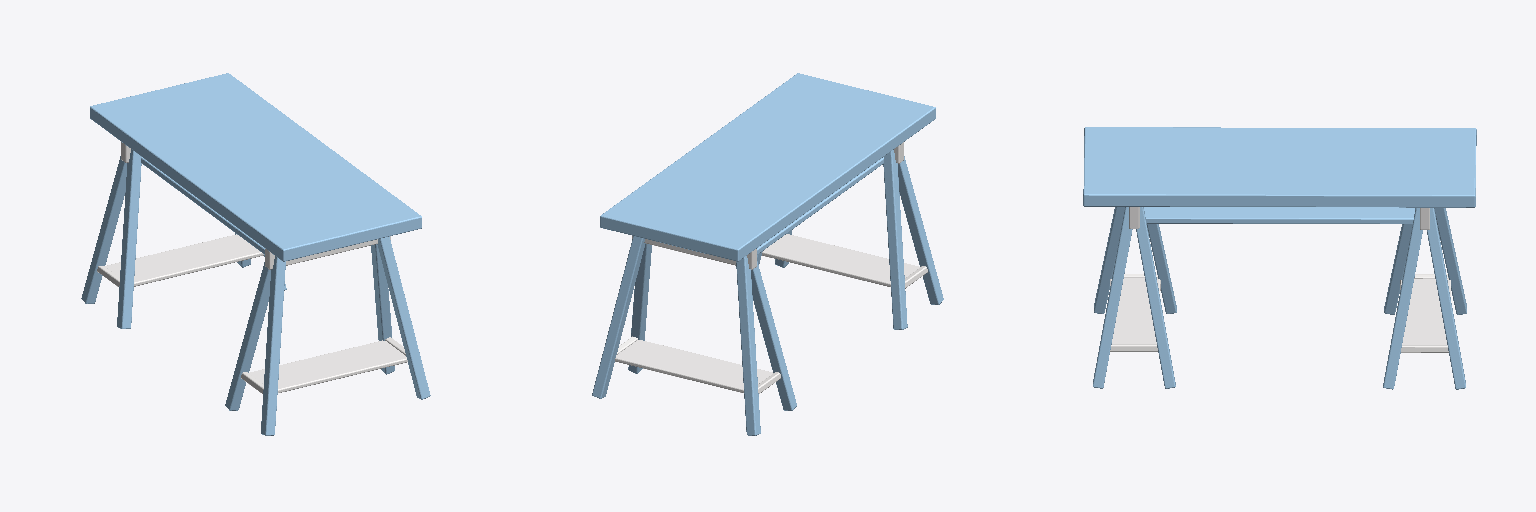
3 views of the same model, side by side, from view 1: azimuth 30°, elevation 25°; view 2: azimuth 150°, elevation 25°; view 3: azimuth 270°, elevation 25° (orthographic).
Parts seen in each view (by area): view 1: 立方体, 立方体.1_4, 立方体.1_2, 立方体.1, 立方体.1_1, 立方体.1_3; view 2: 立方体, 立方体.1_4, 立方体.1_2, 立方体.1, 立方体.1_1, 立方体.1_3; view 3: 立方体, 立方体.1_4, 立方体.1, 立方体.1_2, 立方体.1_3.
Boxes of the visible parts, box(x1,y1,x2,y2) form: 立方体: box(90, 73, 421, 261); 立方体.1_4: box(81, 149, 430, 435); 立方体.1_2: box(105, 234, 407, 392); 立方体.1: box(141, 157, 264, 254); 立方体.1_1: box(121, 142, 390, 269); 立方体.1_3: box(97, 266, 405, 393); 立方体: box(600, 73, 935, 261); 立方体.1_4: box(592, 150, 943, 435); 立方体.1_2: box(615, 234, 919, 392); 立方体.1: box(757, 157, 883, 254); 立方体.1_1: box(632, 142, 903, 269); 立方体.1_3: box(617, 266, 927, 393); 立方体: box(1083, 127, 1476, 207); 立方体.1_4: box(1093, 207, 1466, 389); 立方体.1: box(1144, 207, 1414, 223); 立方体.1_2: box(1110, 278, 1450, 344); 立方体.1_3: box(1110, 274, 1448, 352).
Size of the model in its own units: 450 by 489 by 918.